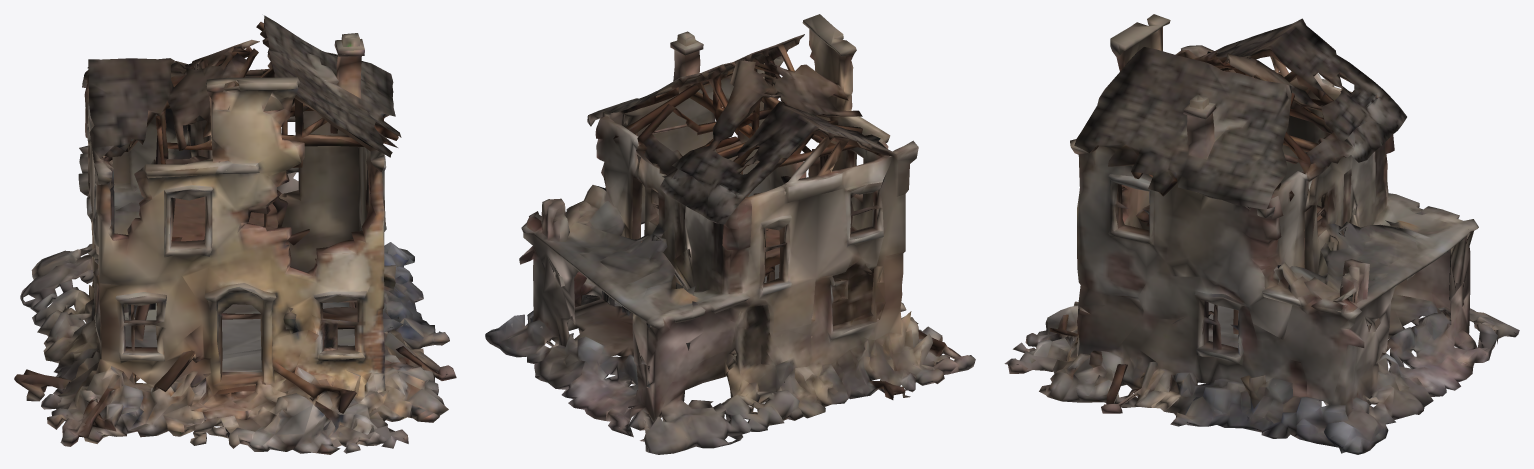
Rendered from building-3_40k.glb.
3 renders of one model, left to right at view 1: azimuth 30°, elevation 25°; view 2: azimuth 150°, elevation 25°; view 3: azimuth 270°, elevation 25°, orthographic. The views are drawn at different scales.
Parts seen in each view (by area): view 1: RETOPO; view 2: RETOPO; view 3: RETOPO.
Boxes of the visible parts, bbox=[...] form: RETOPO: bbox=[14, 15, 456, 454]; RETOPO: bbox=[485, 14, 975, 454]; RETOPO: bbox=[1004, 14, 1519, 454].
Size of the model in its own units: 0.8966 by 0.6383 by 0.9573.
Materials: 1 (1 with a texture image).
